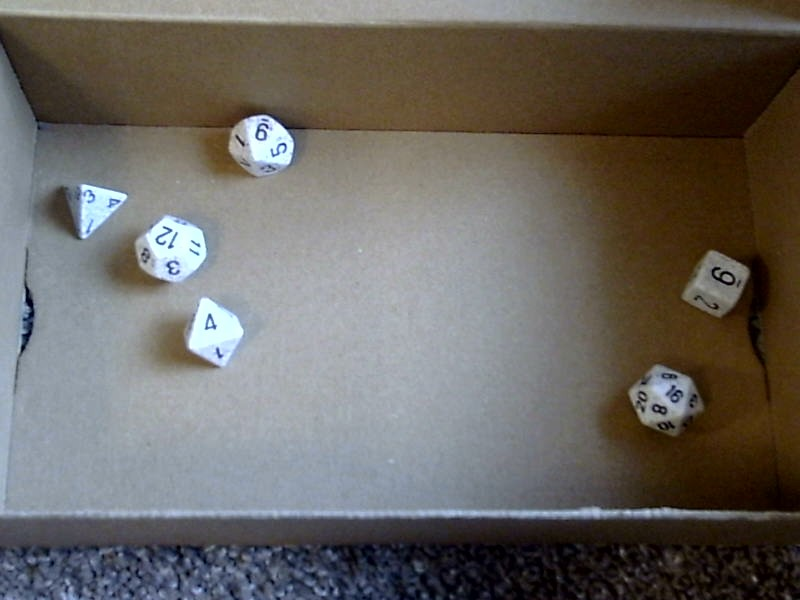d10 9: (218, 106, 304, 188)
d12 12: (128, 206, 208, 286)
d20 16: (618, 355, 715, 445)
d4 3: (50, 176, 127, 241)
d6 6: (676, 243, 751, 325)
d8 4: (176, 294, 246, 375)
